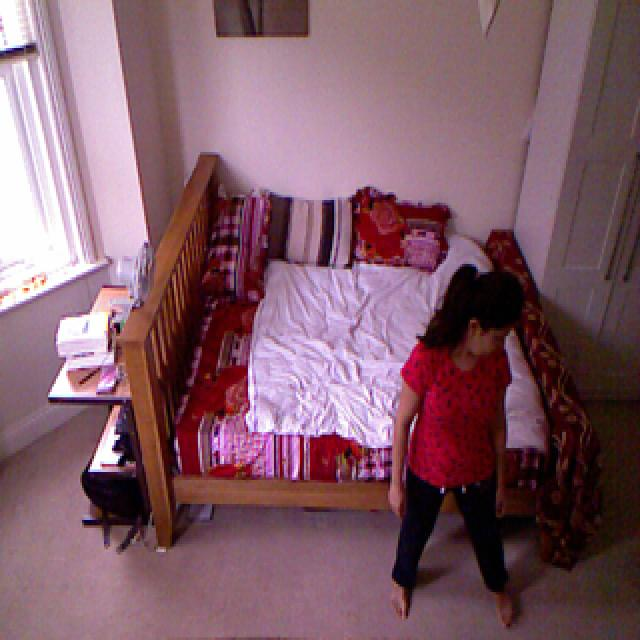standing: (382, 252, 530, 613)
